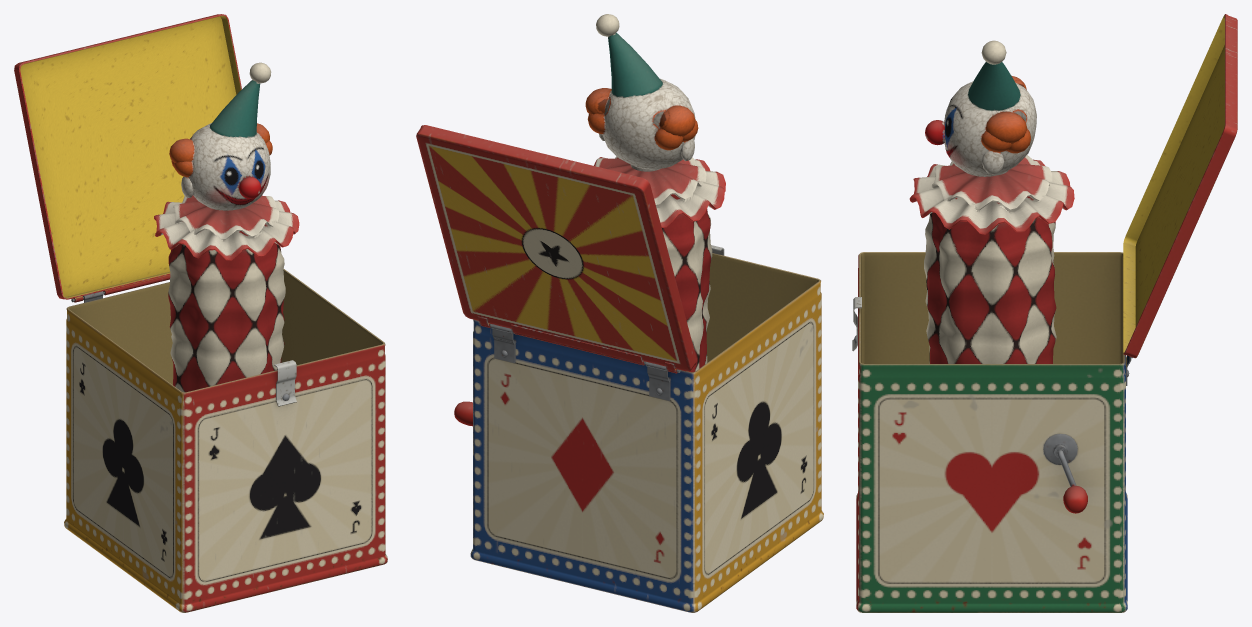
The model's file is JackInTheBox.fbx.
3 renders of one model, left to right at view 1: azimuth 30°, elevation 25°; view 2: azimuth 150°, elevation 25°; view 3: azimuth 270°, elevation 25°, orthographic. The views are drawn at different scales.
Visible parts, largest first — view 1: JackInTheBox_Box, JackInTheBox_Lid, JackInTheBox_Jack, JackInTheBox_Head, JackInTheBox_Latch; view 2: JackInTheBox_Box, JackInTheBox_Lid, JackInTheBox_Head, JackInTheBox_Jack; view 3: JackInTheBox_Box, JackInTheBox_Jack, JackInTheBox_Lid, JackInTheBox_Head, JackInTheBox_Crank.
Boxes of the visible parts, x1,y1,x2,y2 form: JackInTheBox_Box: (64,269,387,612); JackInTheBox_Lid: (14,14,241,302); JackInTheBox_Jack: (154,195,299,392); JackInTheBox_Head: (169,62,272,210); JackInTheBox_Latch: (274,360,296,406); JackInTheBox_Box: (470,253,823,612); JackInTheBox_Lid: (416,125,696,373); JackInTheBox_Head: (585,14,698,171); JackInTheBox_Jack: (594,156,725,372); JackInTheBox_Box: (854,252,1133,612); JackInTheBox_Jack: (909,155,1074,363); JackInTheBox_Lid: (1123,14,1237,358); JackInTheBox_Head: (925,40,1036,176); JackInTheBox_Crank: (1054,444,1087,513).
Size of the model in its own units: 0.6191 by 1.15 by 0.7527.
1 material, 1 textured.
